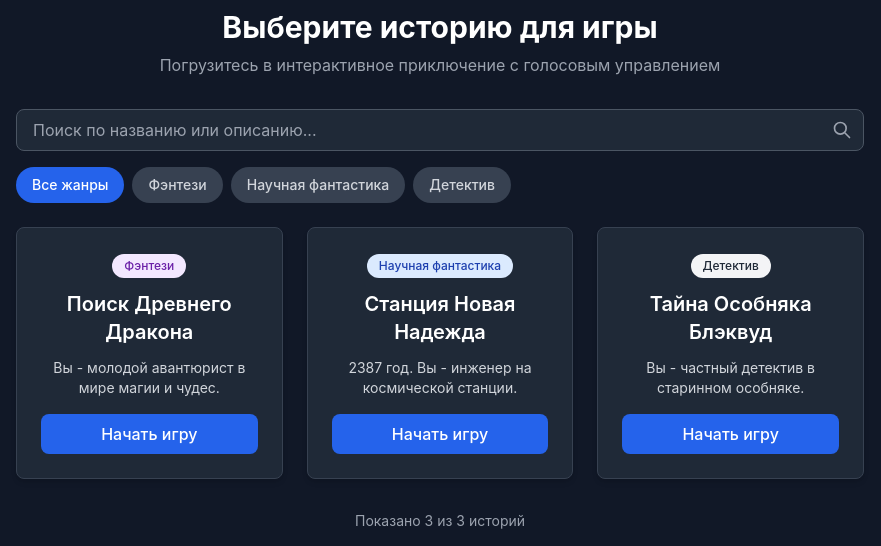
Test: StorySelector › filters stories by search query
Type "дракон" into the field with placeholder "Поиск по названию или описанию..." at (440, 130), box [16,109,864,151]
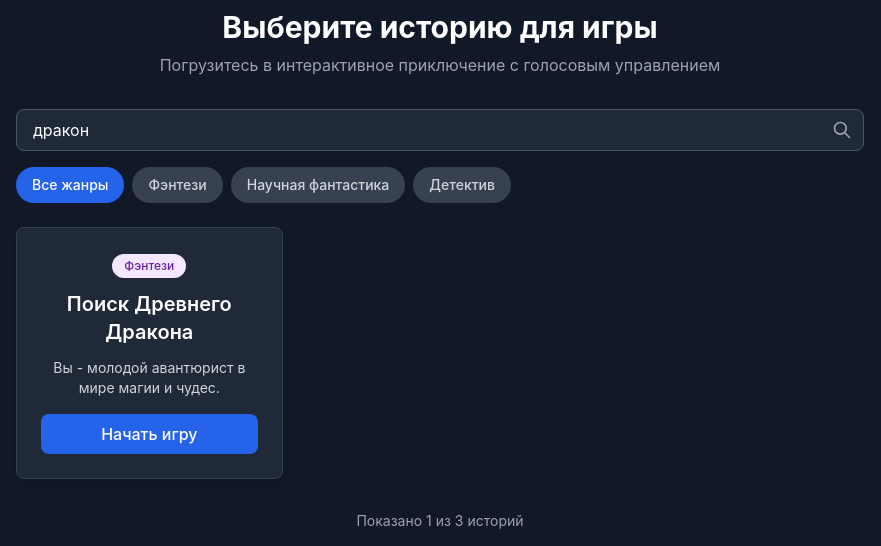
Check: the heading "Поиск Древнего Дракона" is shown, box [67,292,232,344]
Check: the heading "Станция Новая Надежда" is gone
Check: the heading "Тайна Особняка Блэквуд" is gone
